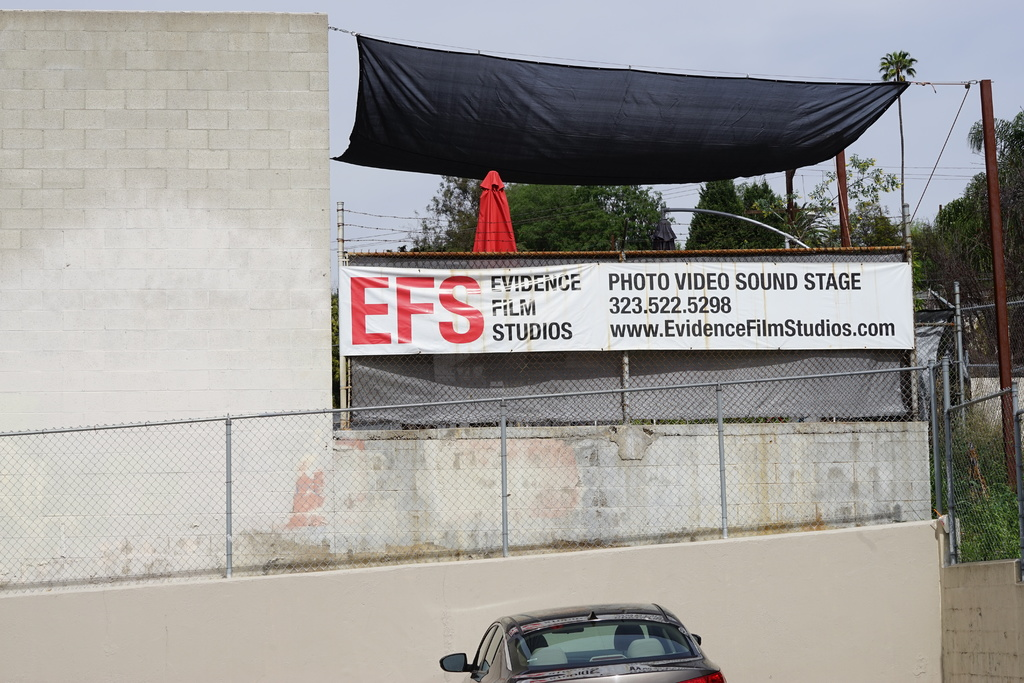Car: (430, 596, 727, 682)
